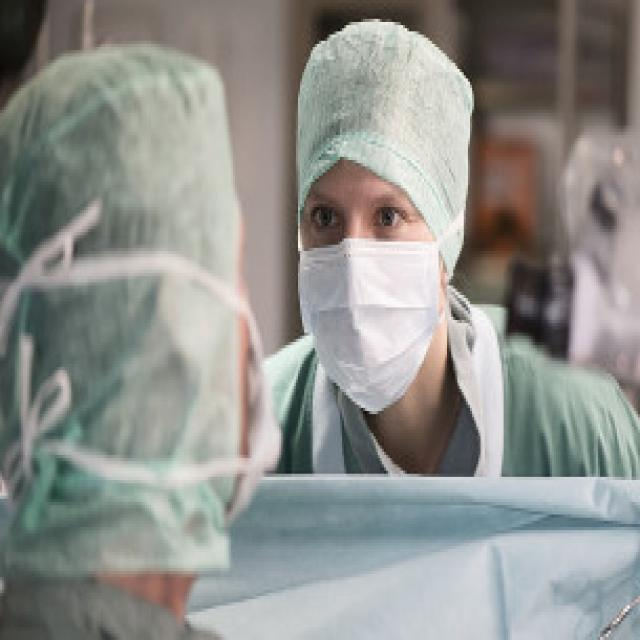mask: (297, 140, 437, 406)
